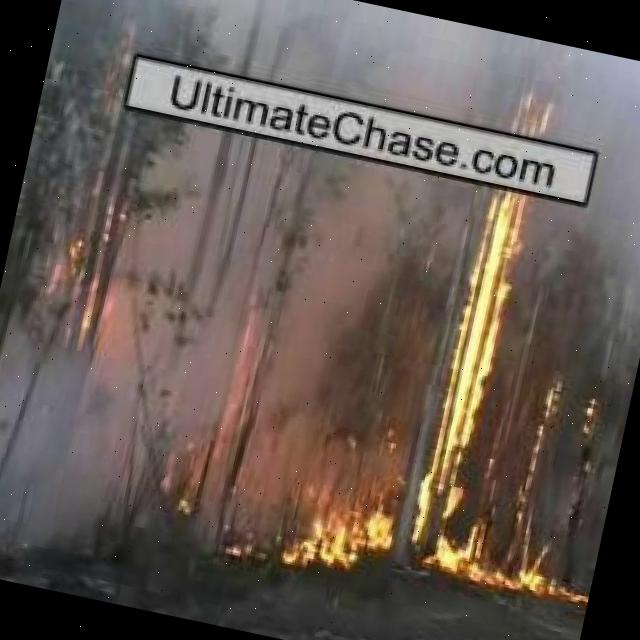fire: (415, 99, 562, 594), (505, 390, 620, 611), (284, 489, 394, 588), (44, 222, 126, 348)
